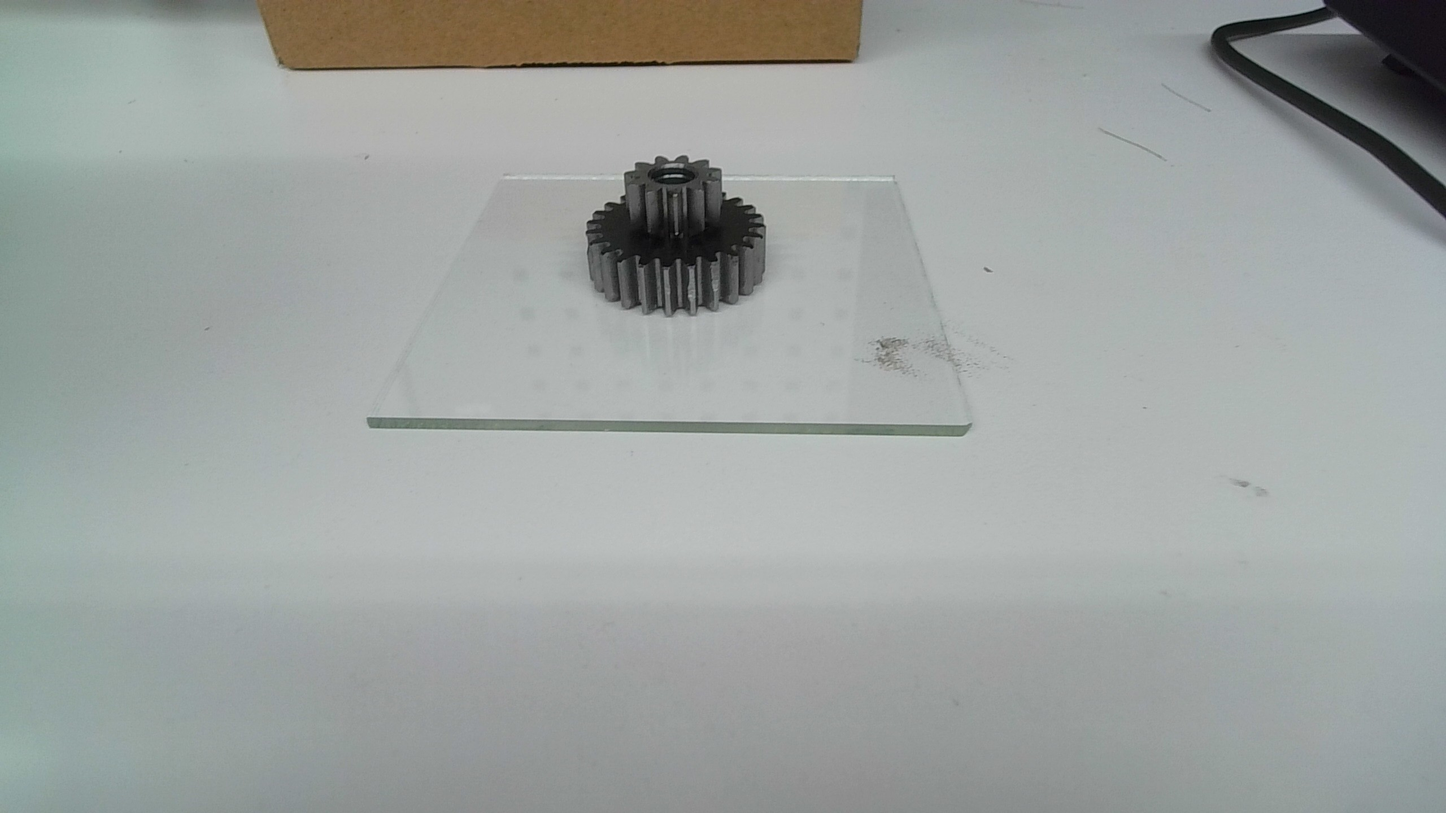gear: (581, 154, 769, 319)
